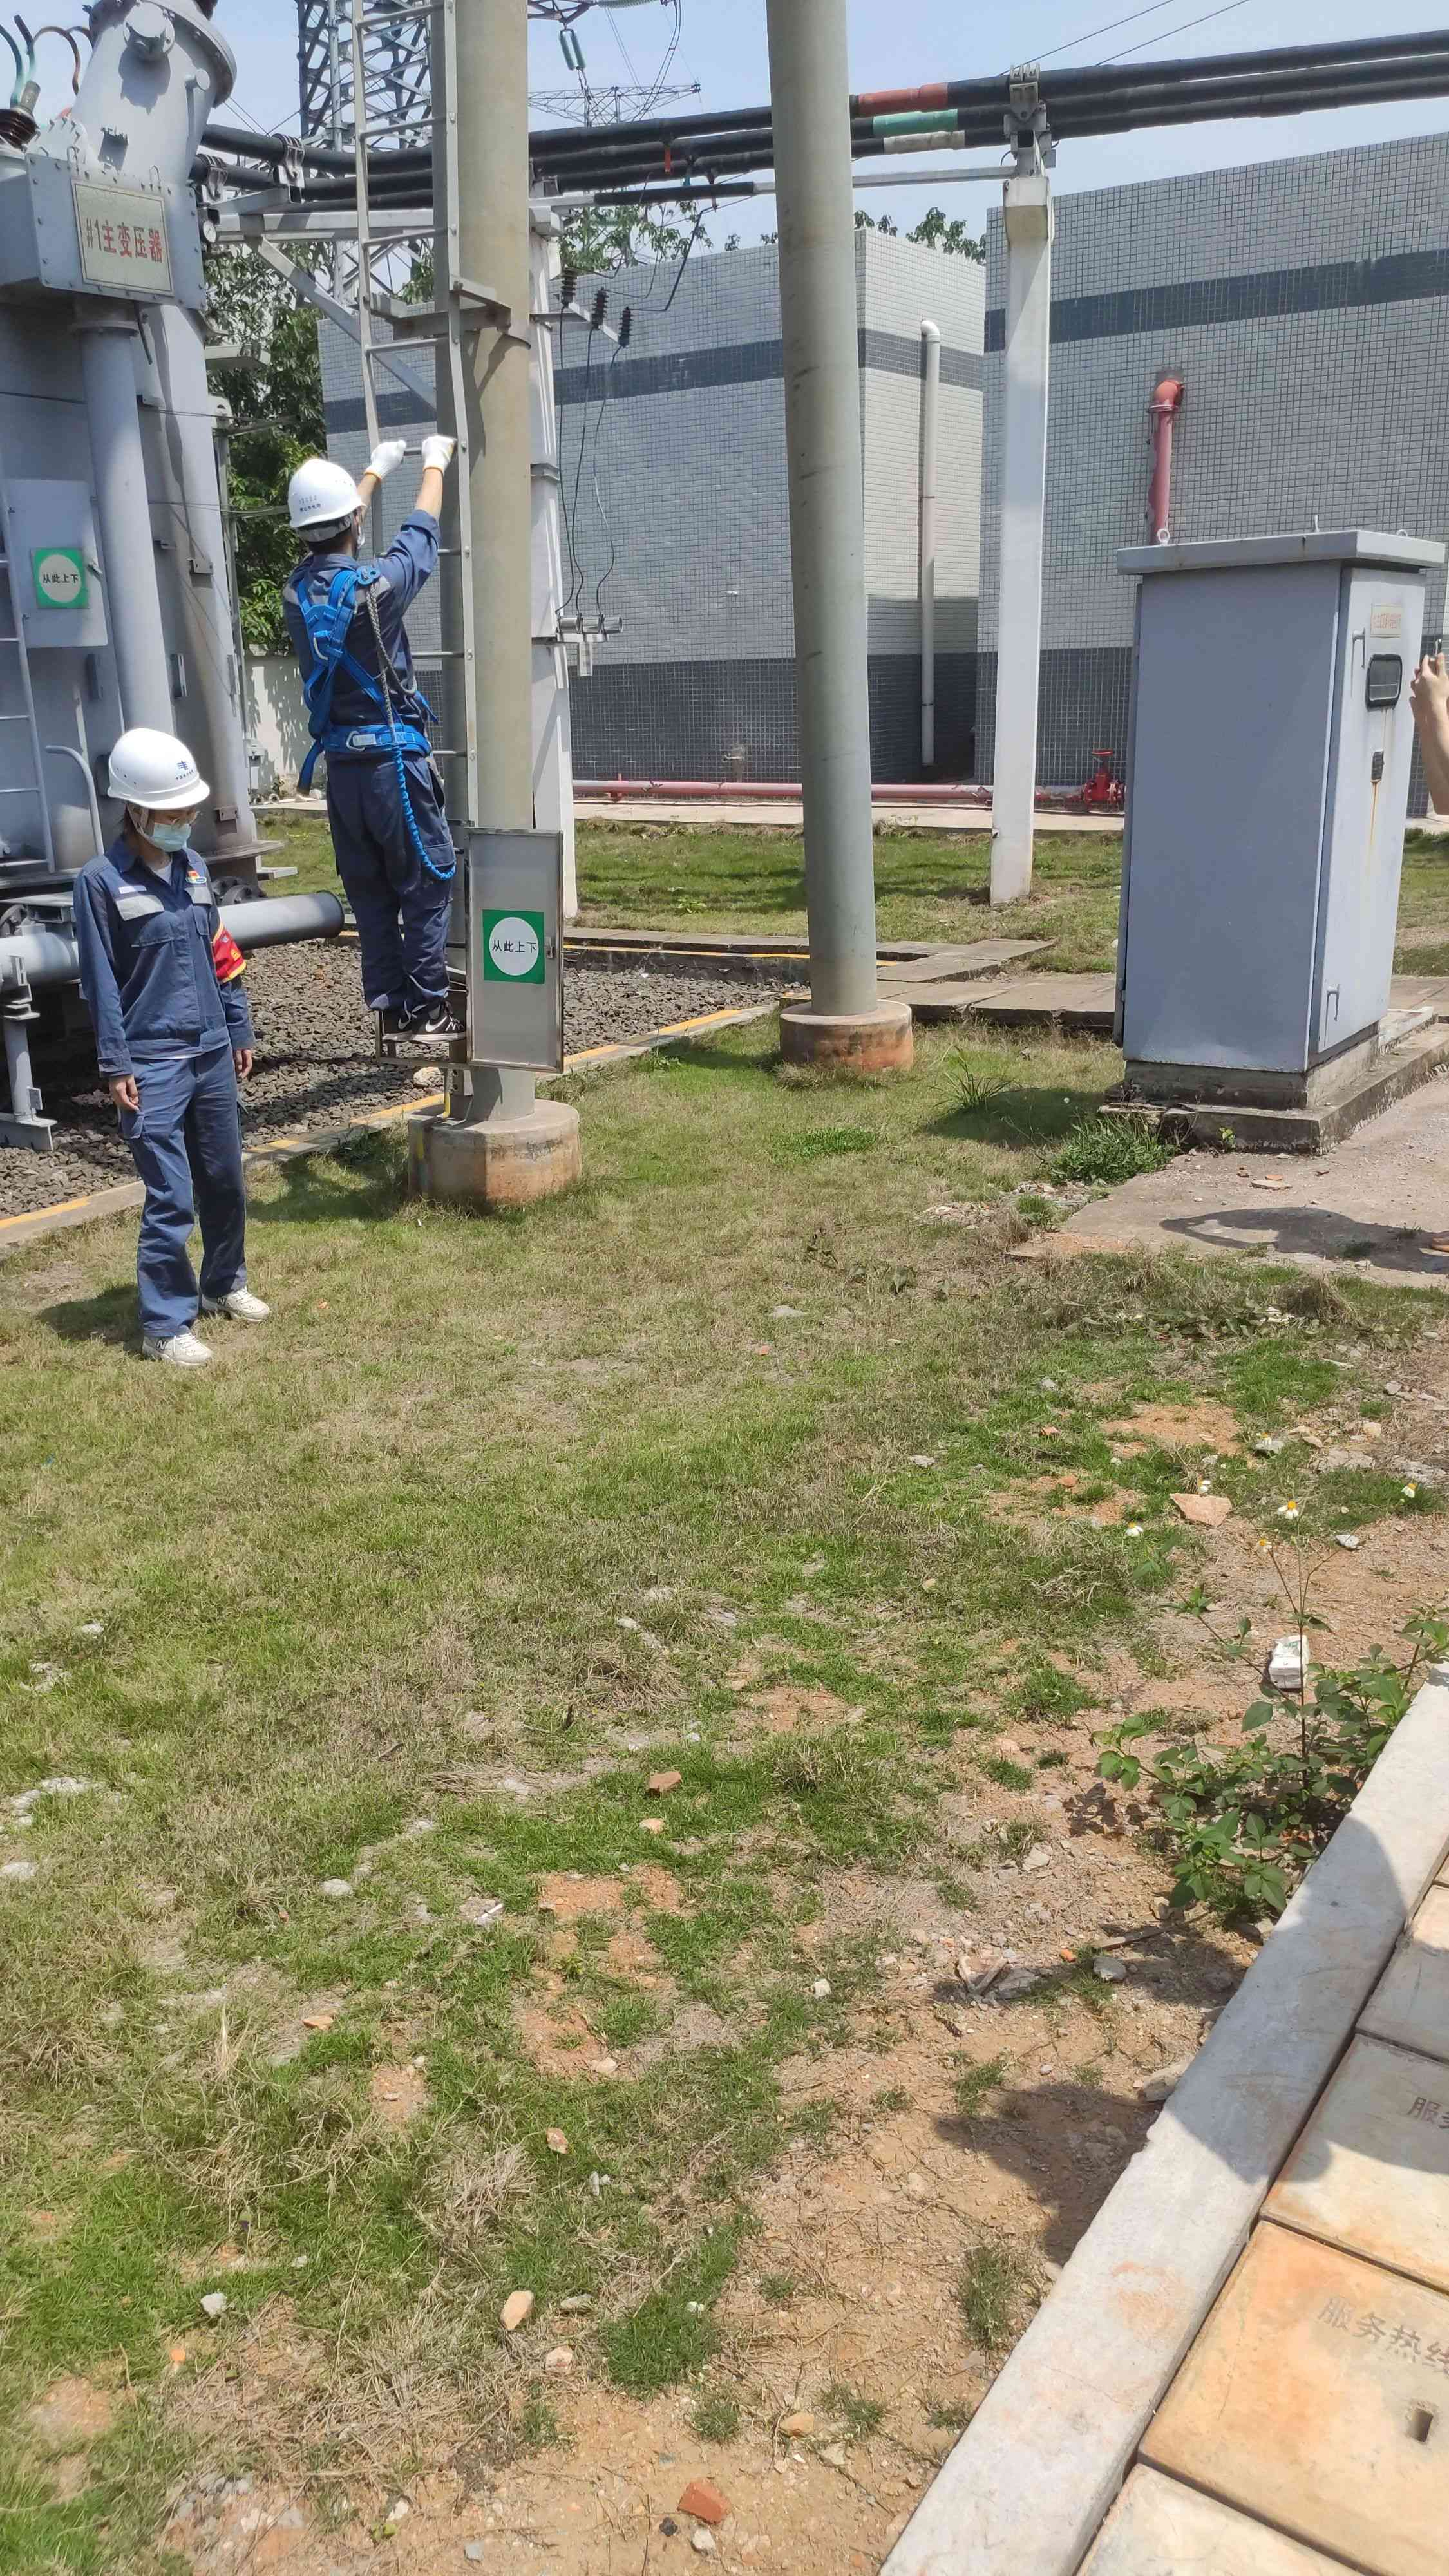downsuit: (322, 768, 464, 1016), (124, 1070, 253, 1318)
upsuit: (67, 849, 257, 1063), (280, 525, 448, 754)
wrongtop: (403, 455, 455, 541)
